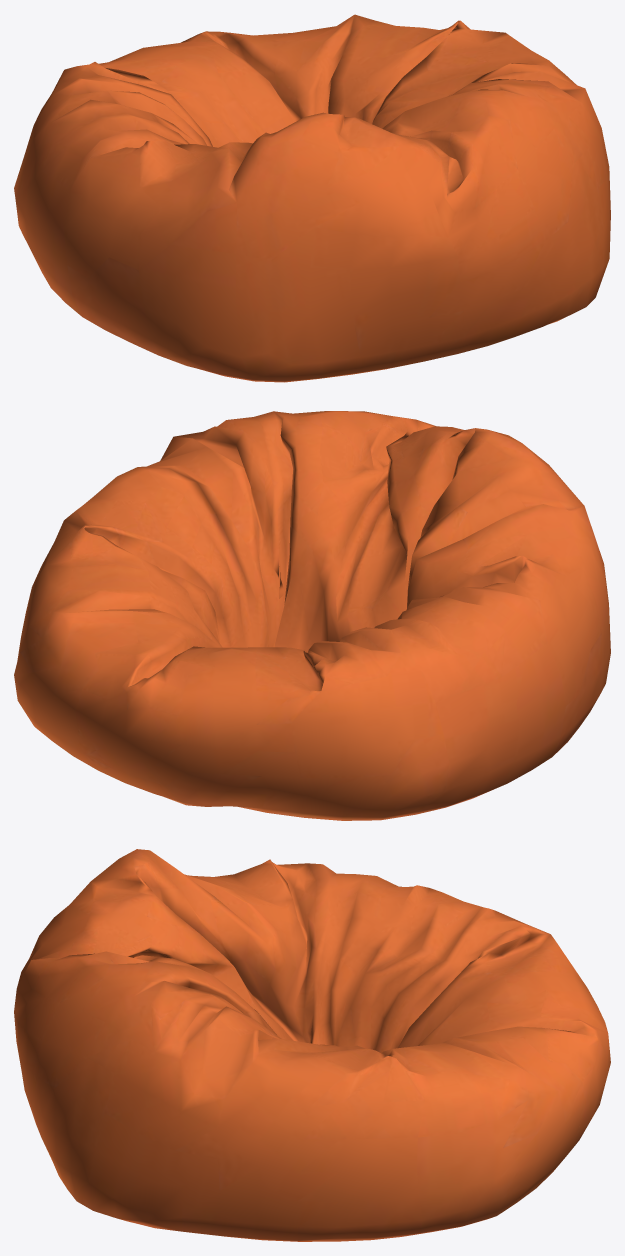
The model's file is office-bean-bag.glb.
The picture shows the model from 3 angles, top to bottom: view 1: azimuth 30°, elevation 25°; view 2: azimuth 150°, elevation 25°; view 3: azimuth 270°, elevation 25°; orthographic projection.
Parts seen in each view (by area): view 1: bean-bag; view 2: bean-bag; view 3: bean-bag.
Part boxes in pixels (x1,y1,x2,y2): bean-bag: (14, 14, 610, 382); bean-bag: (14, 411, 610, 820); bean-bag: (14, 849, 610, 1241).
Size of the model in its own units: 1.25 by 0.5618 by 1.3.
Materials: 1 (1 with a texture image).
